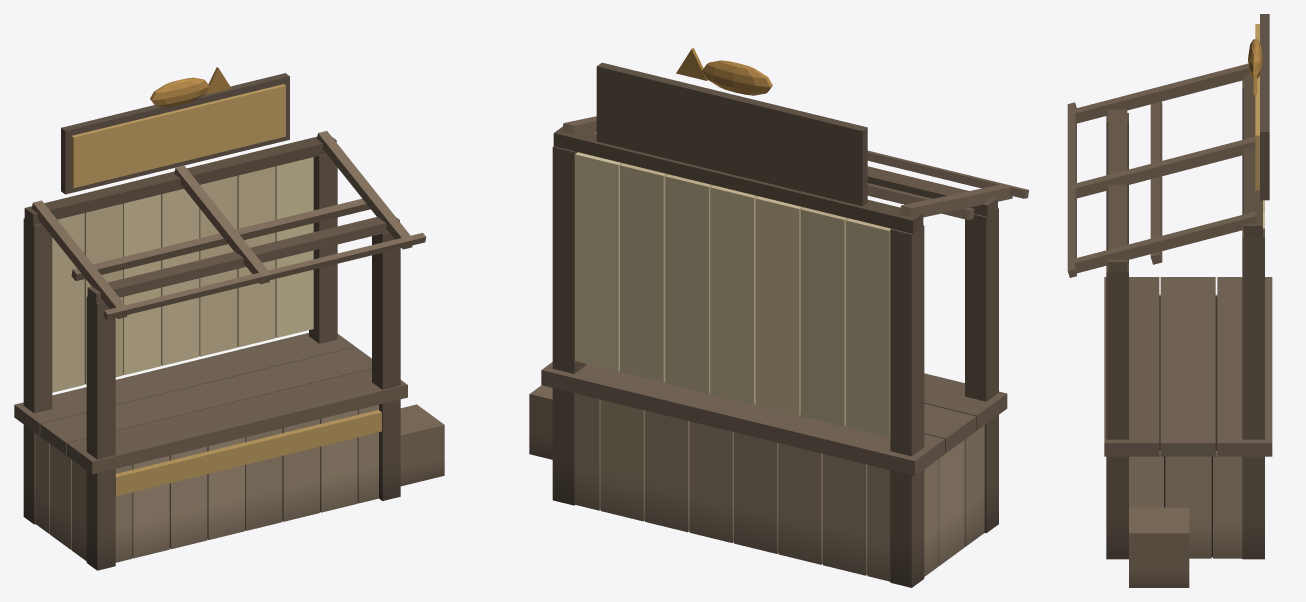
Rendered from FishBuyerStand_wood.glb.
3 views of the same model, side by side, from view 1: azimuth 30°, elevation 25°; view 2: azimuth 150°, elevation 25°; view 3: azimuth 270°, elevation 25° (orthographic). The views are drawn at different scales.
Parts seen in each view (by area): view 1: FishBuyerStand_wood; view 2: FishBuyerStand_wood; view 3: FishBuyerStand_wood.
Part boxes in pixels (left/top/right/bottom): FishBuyerStand_wood: left=14, top=67, right=444, bottom=570; FishBuyerStand_wood: left=529, top=48, right=1032, bottom=587; FishBuyerStand_wood: left=1067, top=14, right=1272, bottom=587.
Bounding box in the file's own units: 12.05 × 12.8 × 6.11.
